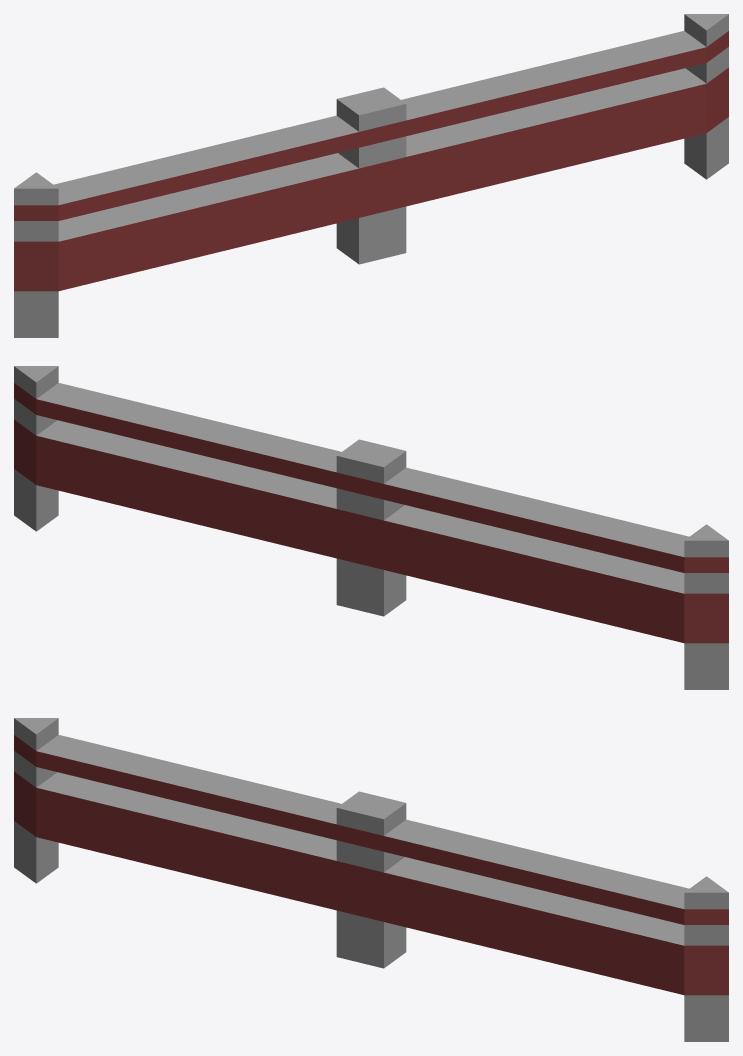
File: APRailB.fbx
3 views of the same model, one above another, from view 1: azimuth 30°, elevation 25°; view 2: azimuth 150°, elevation 25°; view 3: azimuth 330°, elevation 25° (orthographic).
Visible parts, largest first — view 1: APRailB; view 2: APRailB; view 3: APRailB.
Boxes of the visible parts, <box> form: APRailB: <box>14,14,728,337</box>; APRailB: <box>14,366,728,689</box>; APRailB: <box>14,718,728,1041</box>.
Size of the model in its own units: 514 by 103 by 27.91.
1 material, 1 textured.
